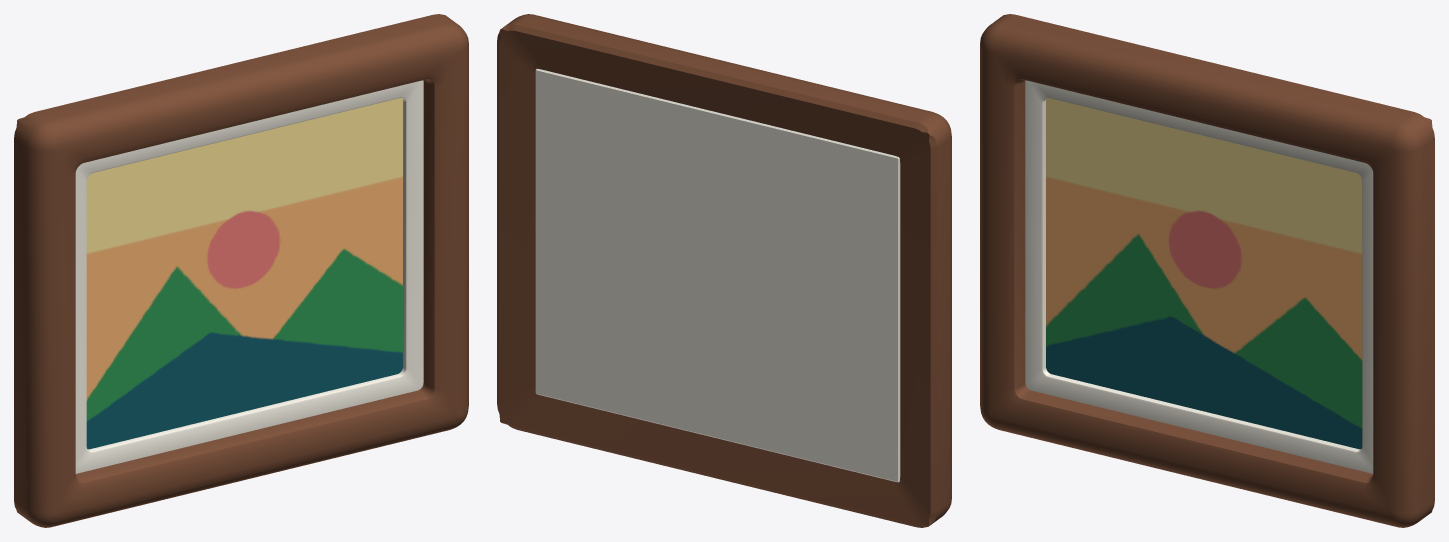
Rendered from quadro_pico_aurora.glb.
The picture shows the model from 3 angles, left to right: view 1: azimuth 30°, elevation 25°; view 2: azimuth 150°, elevation 25°; view 3: azimuth 330°, elevation 25°; orthographic projection.
Visible parts, largest first — view 1: quadro_pico_aurora; view 2: quadro_pico_aurora; view 3: quadro_pico_aurora.
Boxes of the visible parts, x1,y1,x2,y2 form: quadro_pico_aurora: (14,14,468,527); quadro_pico_aurora: (497,14,951,527); quadro_pico_aurora: (980,14,1434,527).
Size of the model in its own units: 0.304 by 0.2673 by 0.03.
2 materials, 2 textured.
